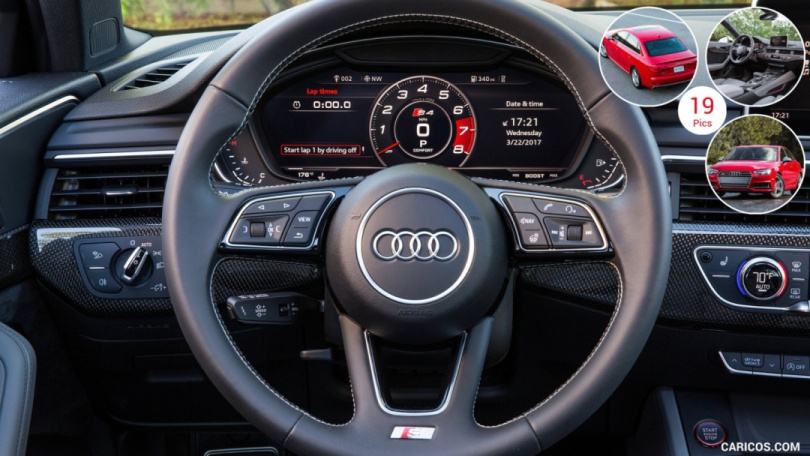audi: (366, 226, 463, 268)
